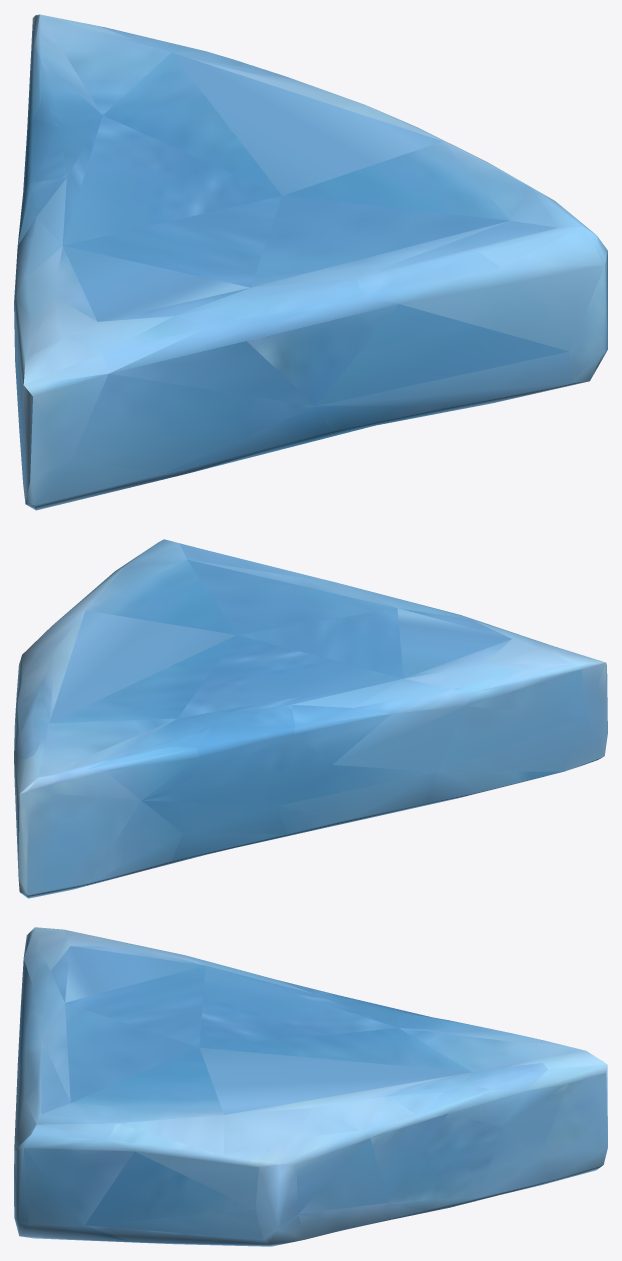
The model's file is placa_hielo_rota_3_300.glb.
3 renders of one model, top to bottom at view 1: azimuth 30°, elevation 25°; view 2: azimuth 150°, elevation 25°; view 3: azimuth 270°, elevation 25°, orthographic. The views are drawn at different scales.
Visible parts, largest first — view 1: placa_hielo_rota_3_malla; view 2: placa_hielo_rota_3_malla; view 3: placa_hielo_rota_3_malla.
Part boxes in pixels (x1=…): placa_hielo_rota_3_malla: x1=14, y1=14, x2=607, y2=510; placa_hielo_rota_3_malla: x1=14, y1=539, x2=607, y2=898; placa_hielo_rota_3_malla: x1=14, y1=927, x2=607, y2=1246.
Bounding box in the file's own units: 0.1101 × 0.0277 × 0.1233.
Materials: 1 (1 with a texture image).
